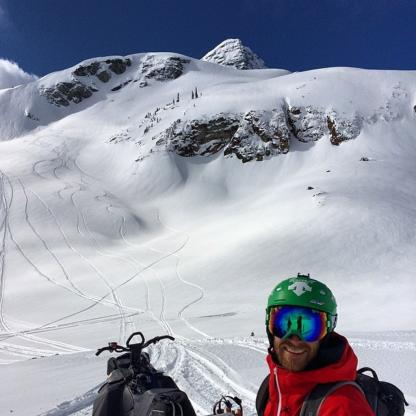Helmet: (266, 282, 344, 376)
